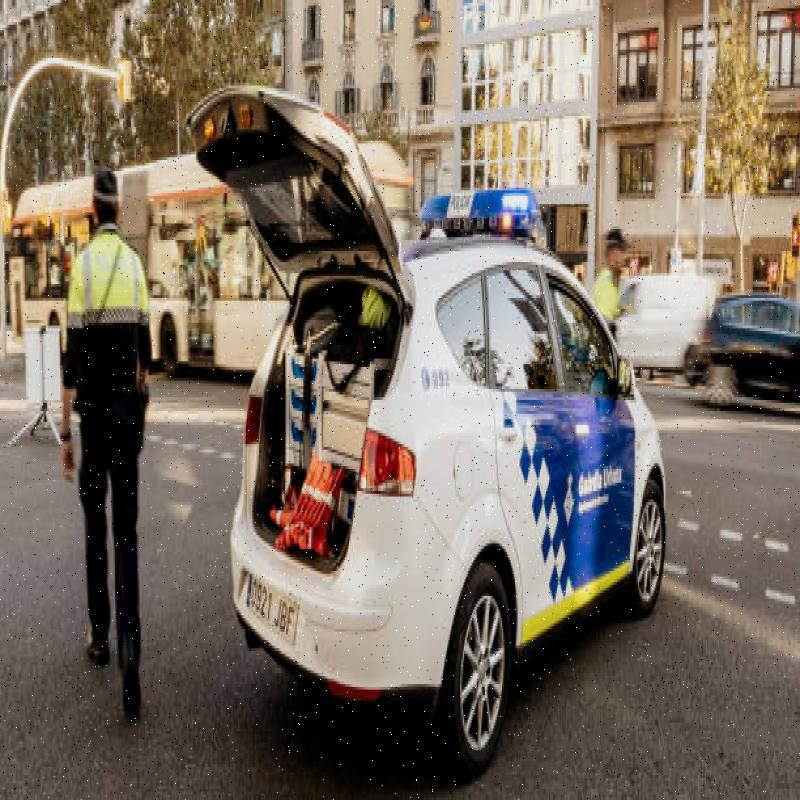AmbulanceSiren: (409, 180, 550, 235)
